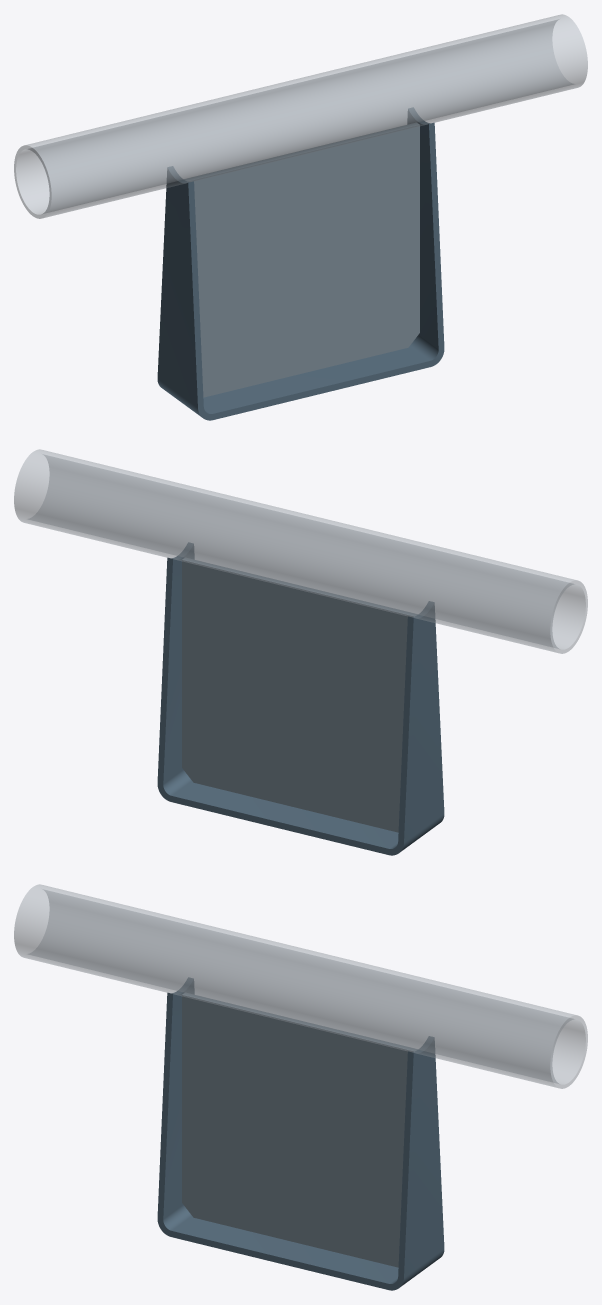
The model's file is TS-623.000-01-opora-dn45-H150-L170.glb.
The picture shows the model from 3 angles, top to bottom: view 1: azimuth 30°, elevation 25°; view 2: azimuth 150°, elevation 25°; view 3: azimuth 330°, elevation 25°; orthographic projection.
Parts seen in each view (by area): view 1: rebro, truba, skoba; view 2: rebro, truba, skoba; view 3: rebro, truba, skoba.
Boxes of the visible parts, x1,y1,x2,y2 form: rebro: (184, 123, 419, 397); truba: (14, 14, 587, 218); skoba: (157, 107, 444, 420); rebro: (182, 558, 417, 832); truba: (14, 449, 587, 653); skoba: (157, 542, 444, 855); rebro: (182, 993, 417, 1267); truba: (14, 884, 587, 1088); skoba: (157, 977, 444, 1290).
Bounding box in the file's own units: 370 × 195 × 50.
